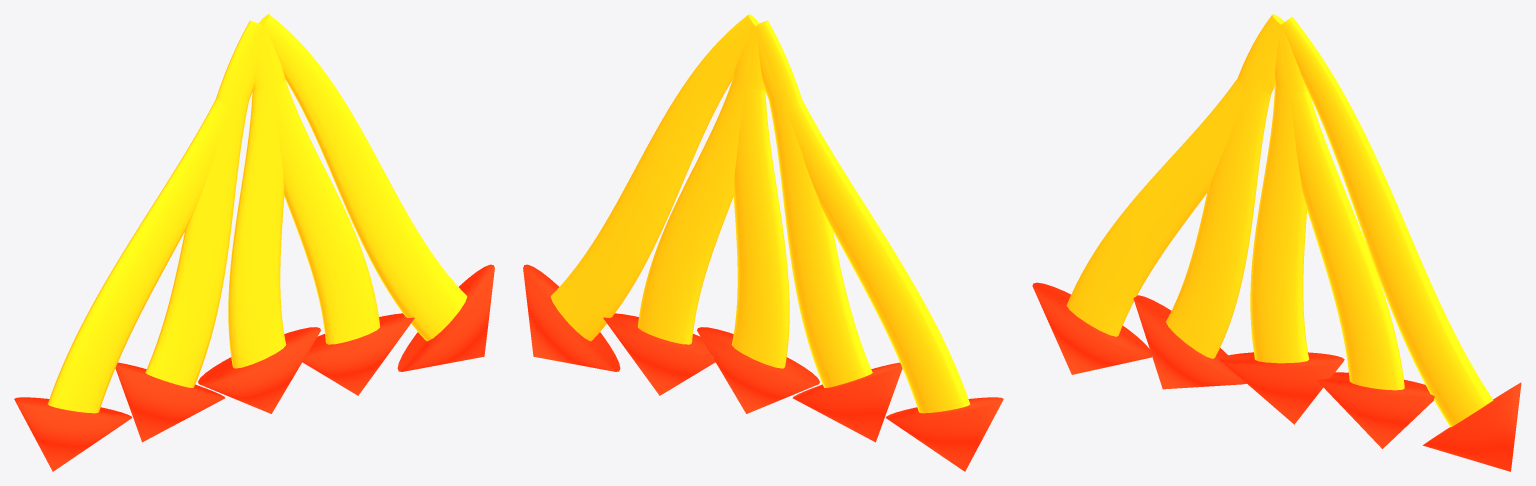
File: heat-arrows.glb
3 views of the same model, side by side, from view 1: azimuth 30°, elevation 25°; view 2: azimuth 150°, elevation 25°; view 3: azimuth 330°, elevation 25° (orthographic).
Visible parts, largest first — view 1: heat_4, heat_0, heat_1, heat_2, heat_3; view 2: heat_4, heat_0, heat_1, heat_2, heat_3; view 3: heat_4, heat_0, heat_1, heat_3, heat_2.
Part boxes in pixels (x1,y1,x2,y2): heat_4: [258, 14, 494, 371]; heat_0: [14, 28, 262, 471]; heat_1: [115, 20, 262, 442]; heat_2: [198, 27, 320, 413]; heat_3: [253, 27, 414, 395]; heat_4: [523, 14, 759, 371]; heat_0: [755, 28, 1003, 471]; heat_1: [755, 20, 902, 442]; heat_2: [697, 27, 819, 413]; heat_3: [603, 27, 764, 395]; heat_4: [1281, 16, 1521, 471]; heat_0: [1032, 25, 1280, 374]; heat_1: [1133, 14, 1284, 389]; heat_3: [1274, 25, 1434, 448]; heat_2: [1219, 25, 1344, 424].
Size of the model in its own units: 0.0675 by 0.0546 by 0.00524.
